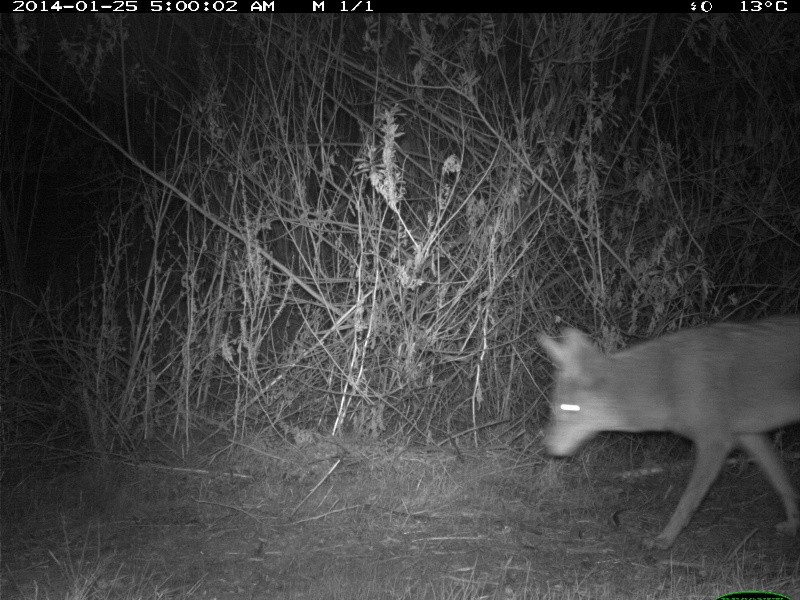coyote: (535, 313, 800, 553)
